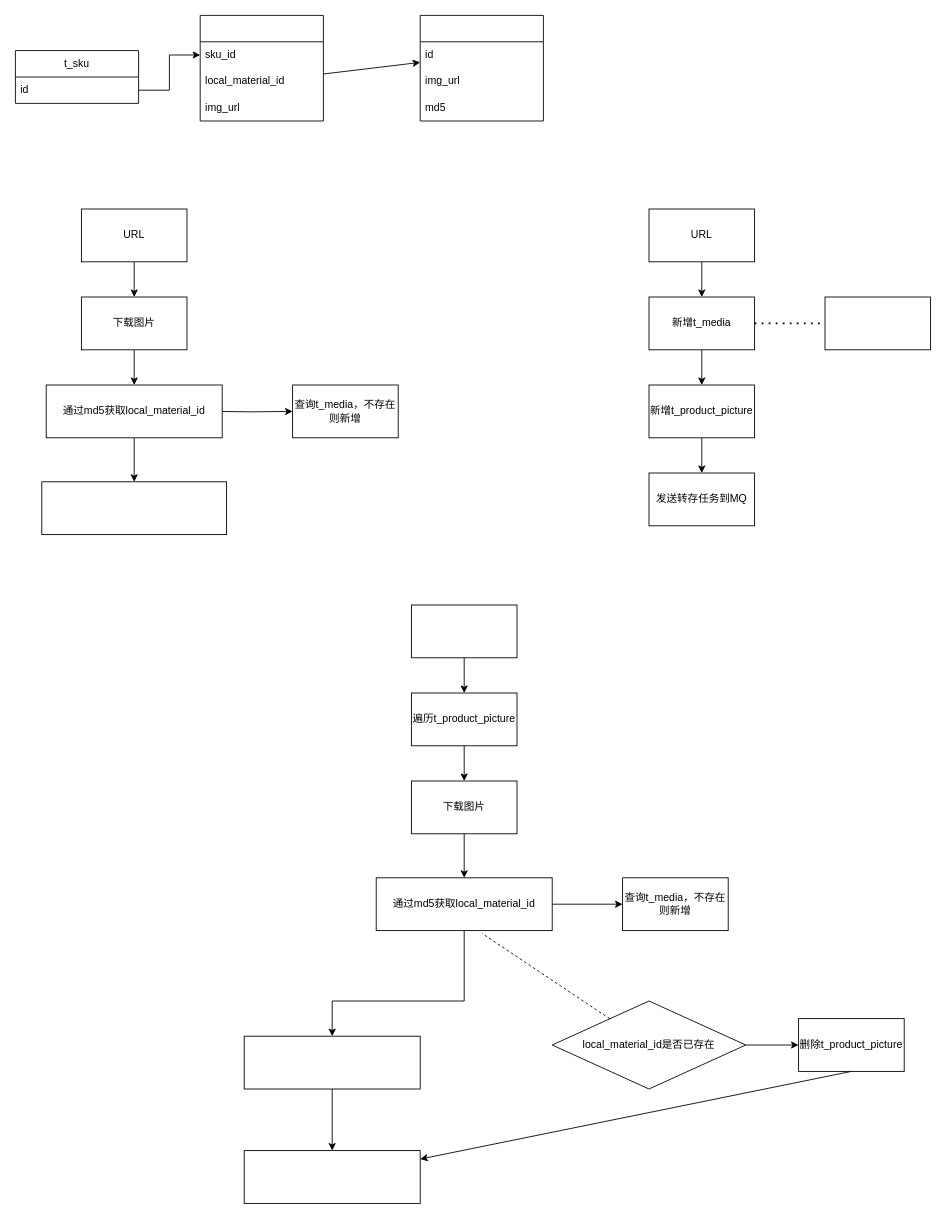
The diagram is 946 pixels wide and 1219 high, and some of its shapes have lost their labels. Each missing label, with the box of its shape:
t_media: (419, 15, 543, 121)
t_product_picture: (199, 15, 323, 121)
删除旧的t_media: (243, 1150, 420, 1203)
图片转存任务: (411, 604, 517, 658)
按 local_material_id去重 ，新增t_product_picture: (41, 481, 227, 535)
更新t_product_picture表字段 local_material_id ，关联到真实文件的t_media: (243, 1035, 420, 1089)
此时md5是一个随机字符串，不是真实的文件md5: (824, 296, 931, 350)
